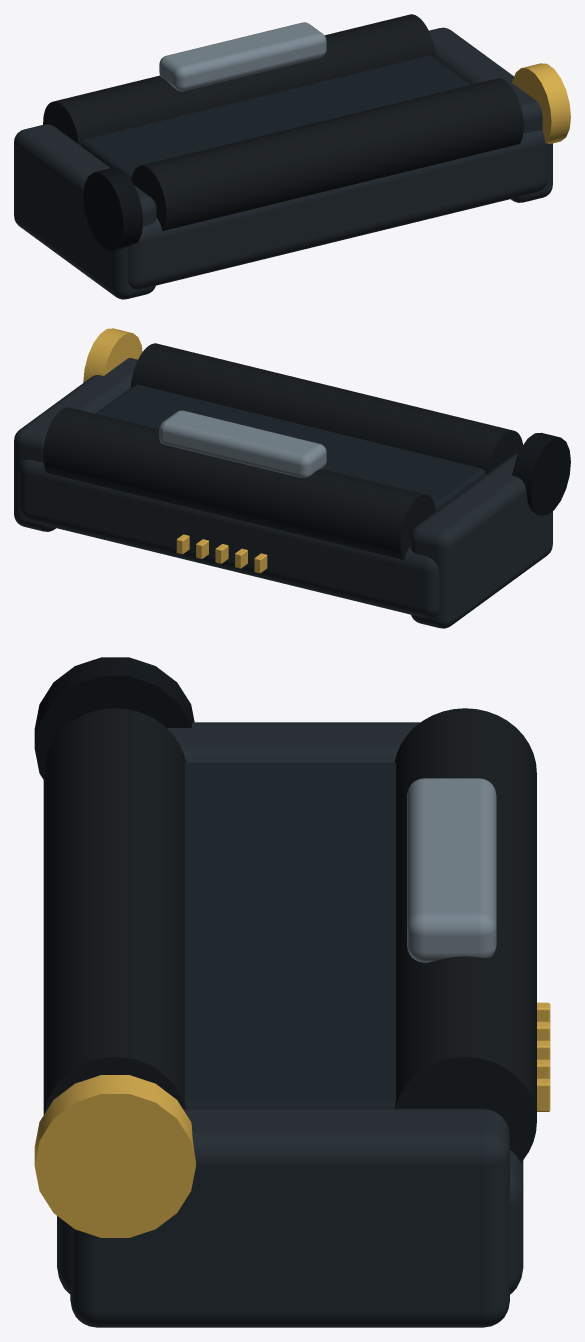
Rendered from printer-transfer-belt.glb.
The picture shows the model from 3 angles, top to bottom: view 1: azimuth 30°, elevation 25°; view 2: azimuth 150°, elevation 25°; view 3: azimuth 270°, elevation 25°; orthographic projection. The views are drawn at different scales.
Visible parts, largest first — view 1: Transfer belt roller (×2), Transfer belt chassis, Belt end housing (×2), Electrostatic transfer belt, Belt drive gear (×2), Transfer belt handle; view 2: Transfer belt roller (×2), Transfer belt chassis, Belt end housing (×2), Electrostatic transfer belt, Transfer belt handle, Belt drive gear (×2); view 3: Transfer belt roller (×2), Belt end housing (×2), Electrostatic transfer belt, Belt drive gear (×2), Transfer belt handle, Transfer belt chassis.
Part boxes in pixels (x1,y1,x2,y2): Transfer belt roller (×2): (43,14,523,230); Transfer belt chassis: (127,130,548,289); Belt end housing (×2): (14,27,552,299); Electrostatic transfer belt: (81,55,470,179); Belt drive gear (×2): (83,63,570,250); Transfer belt handle: (159,22,326,91); Transfer belt roller (×2): (43,343,522,560); Transfer belt chassis: (18,459,439,618); Belt end housing (×2): (14,358,552,628); Electrostatic transfer belt: (96,384,485,511); Transfer belt handle: (159,410,326,477); Belt drive gear (×2): (83,328,570,515); Transfer belt roller (×2): (43,708,536,1162); Belt end housing (×2): (70,722,509,1327); Electrostatic transfer belt: (184,763,395,1108); Belt drive gear (×2): (34,657,195,1237); Transfer belt handle: (407,778,496,962); Transfer belt chassis: (57,1150,523,1294).
Bounding box in the file's own units: 2.3 × 0.68 × 1.15.
